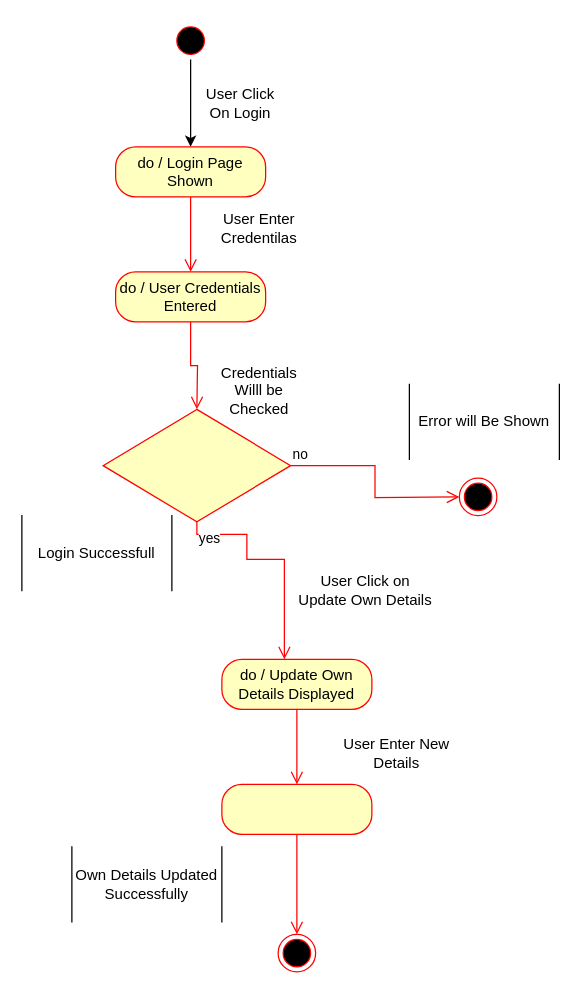
This 581x994 diagram has some shape labels left out. Each missing label, with the centre of its shape:
"do / Credentials Checked By the System" goes at (x=196, y=465).
"do / New Details Entered" goes at (x=296, y=808).
